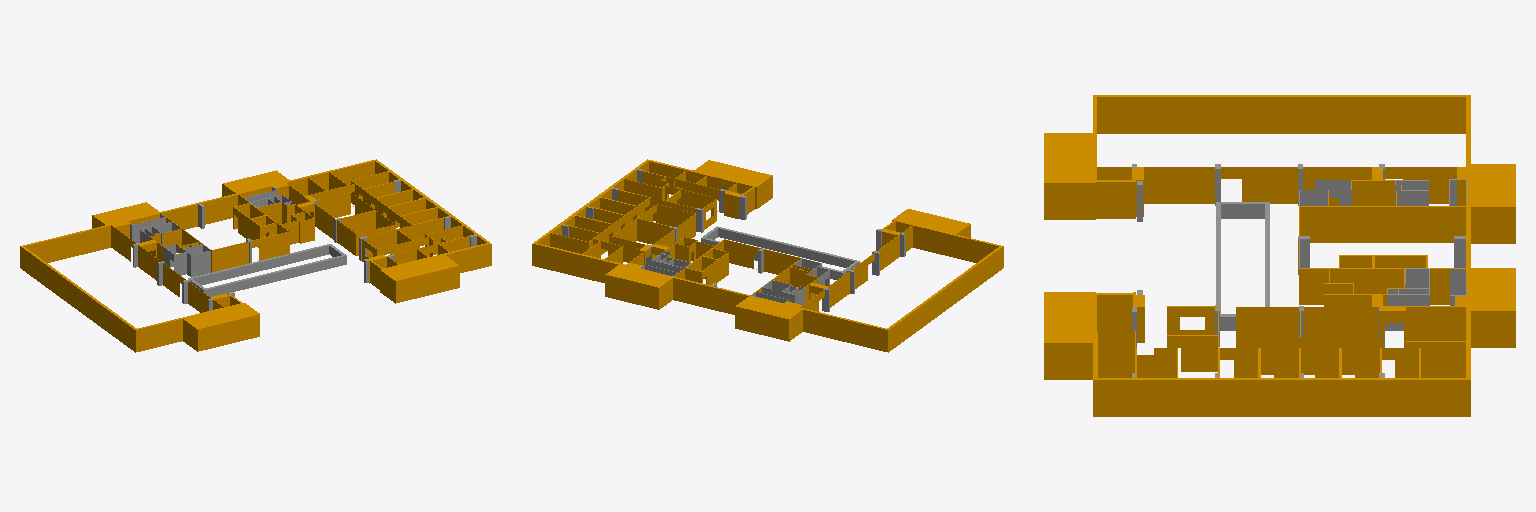
The robot description file, URDF, robot "cs_ug":
<?xml version="1.0"?>
<robot name="cs_ug">
  <link name="base_link">
    <visual>
      <origin rpy="0 0 0" xyz="0 0 0"/>
      <geometry>
        <mesh filename="package://strands_morse/bham/meshes/cs_ug.dae"/>
      </geometry>
    </visual>
  </link>
  <link name="base_footprint"/>
  <joint name="base_footprint_joint" type="fixed">
    <origin rpy="0 0 0" xyz="0 0 0.0"/>
    <child link="base_link"/>
    <parent link="base_footprint"/>
  </joint>
</robot>

--- Facts derived from the render (not from the file) ---
3 views of the same robot in one strip: view 1: azimuth 30°, elevation 25°; view 2: azimuth 150°, elevation 25°; view 3: azimuth 270°, elevation 25° (orthographic).
Robot: cs_ug — 2 links, 1 joints (1 fixed); root link base_footprint; default pose: every joint at zero.
Visible links, largest first — view 1: base_link; view 2: base_link; view 3: base_link.
Boxes of the visible links, bbox=[...] form: base_link: bbox=[20, 159, 491, 352]; base_link: bbox=[532, 159, 1003, 352]; base_link: bbox=[1044, 95, 1515, 416].
Size in the robot's own frame: 50 by 34.88 by 3 metres.
Meshes: 1 distinct files referenced, 1 mesh visuals loaded (1 Collada DAE).
